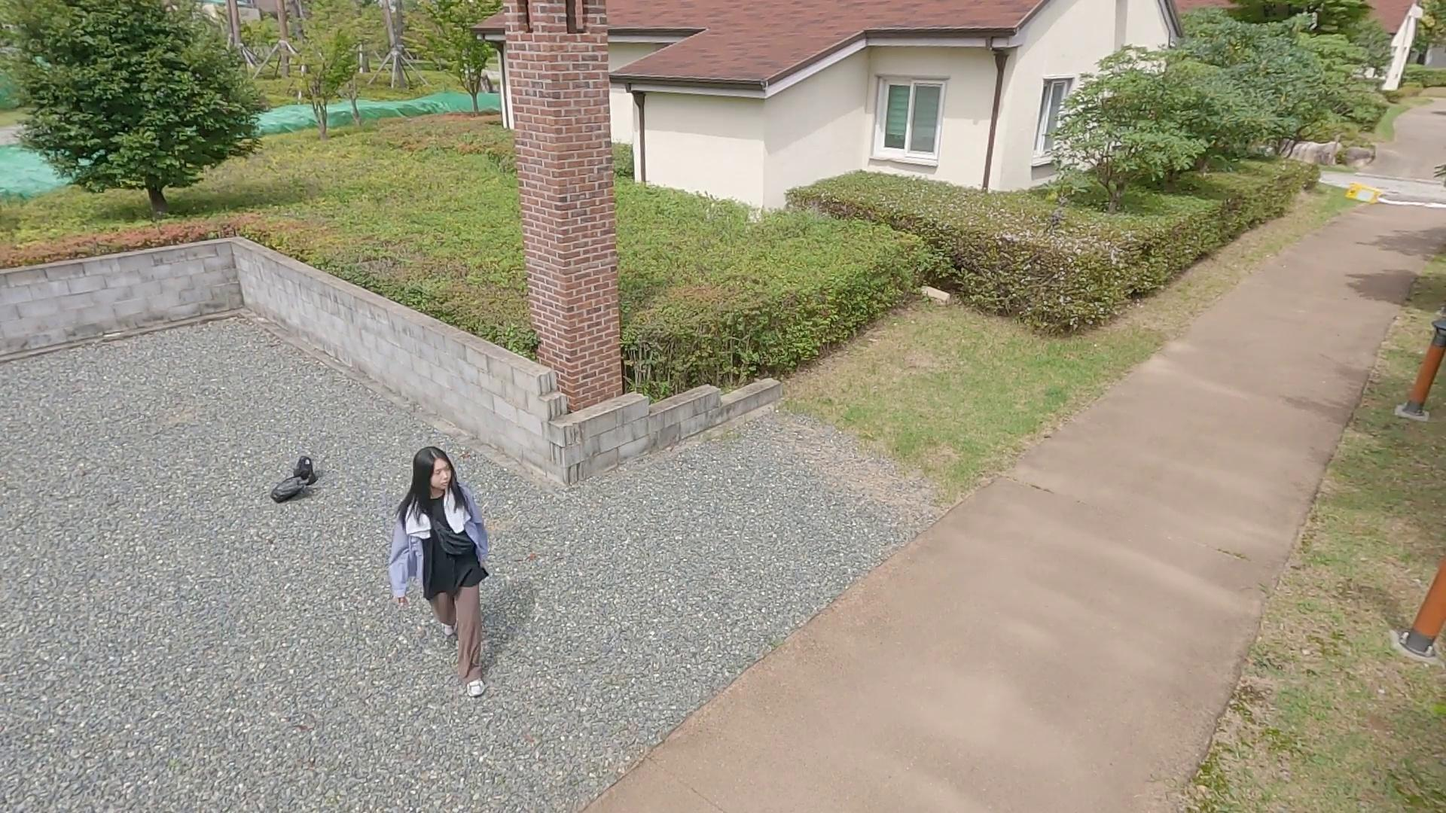person: (390, 443, 505, 696)
trash: (269, 467, 314, 505), (290, 451, 315, 486)
